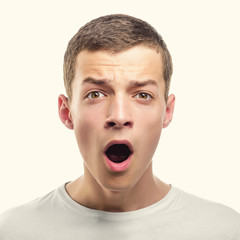teen: (57, 15, 172, 200)
